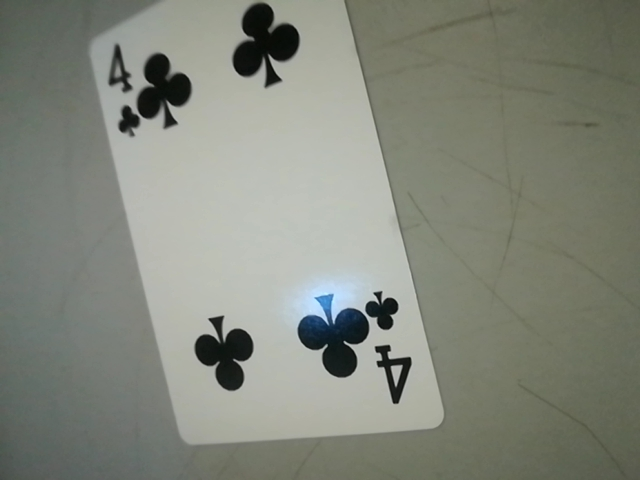mh 4: (360, 281, 427, 418)
